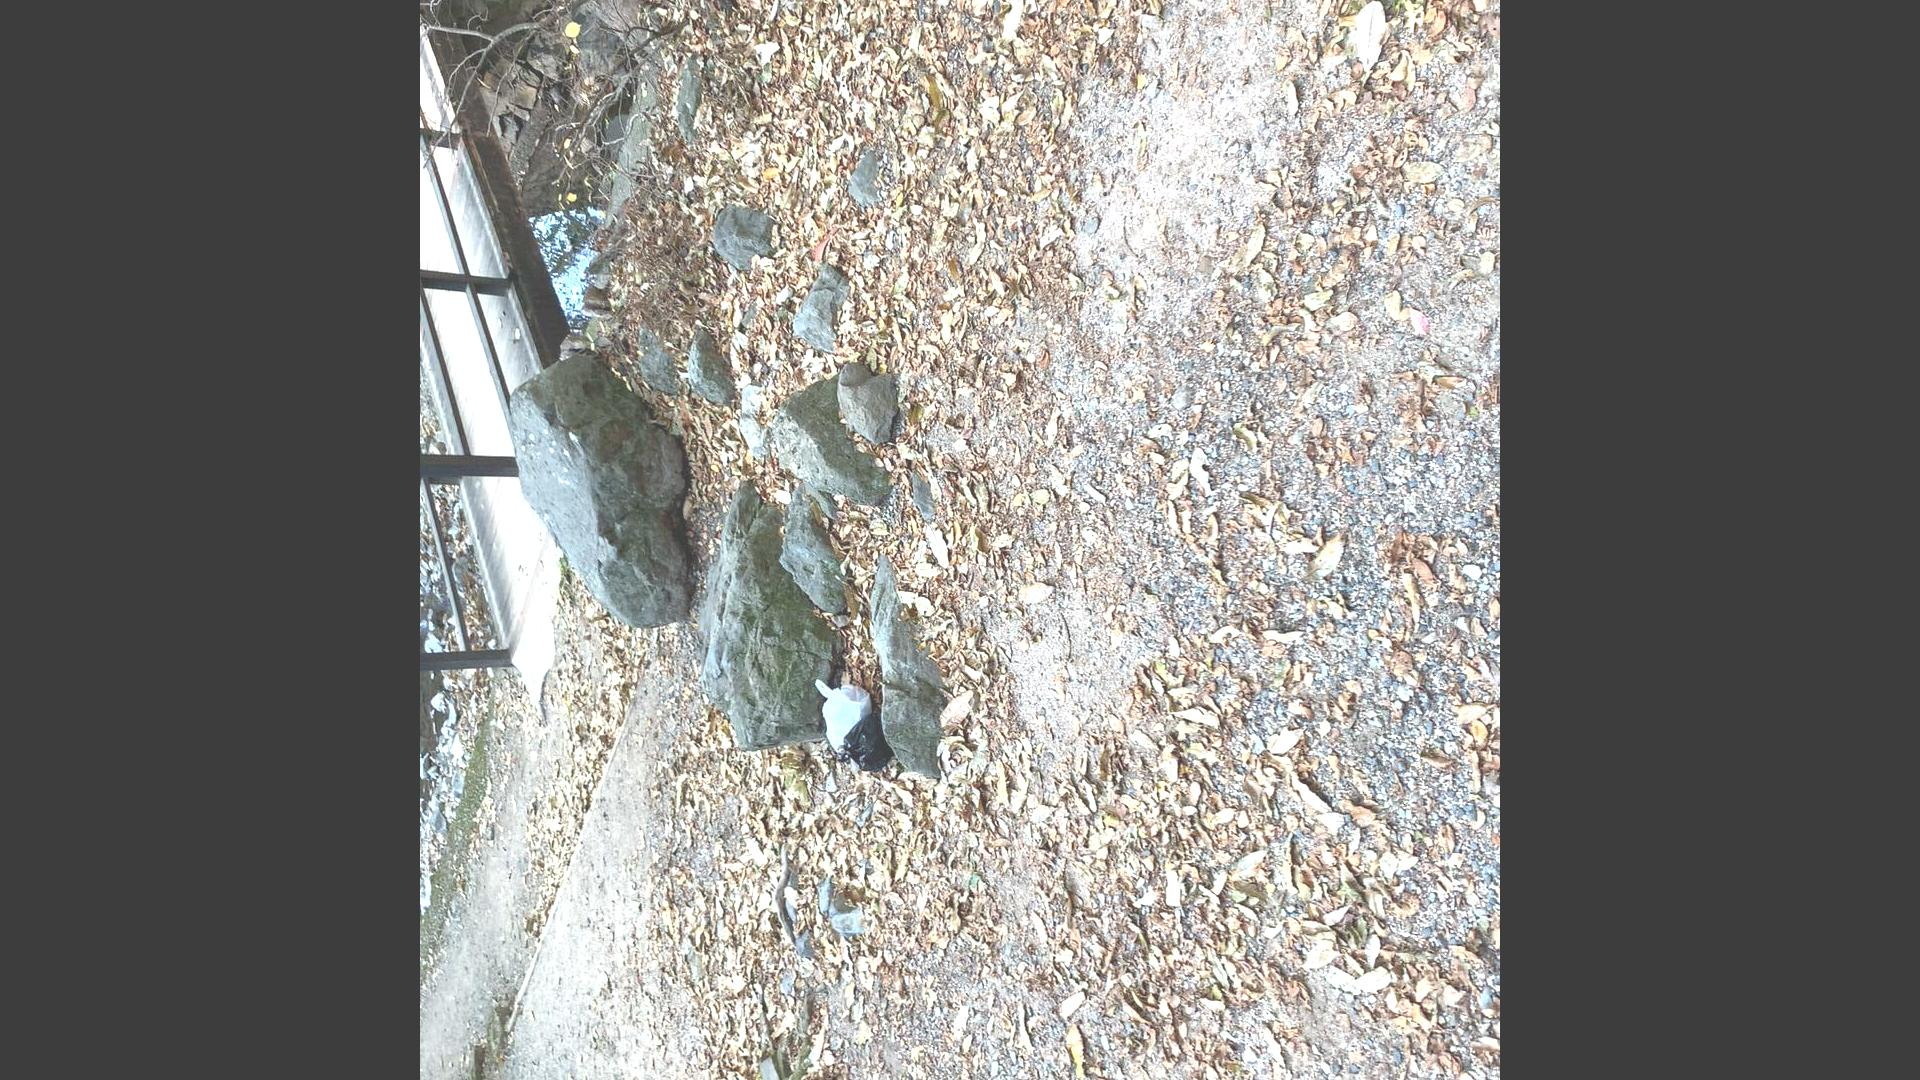black_bag: (835, 713, 891, 775)
white_bag: (808, 673, 872, 752)
